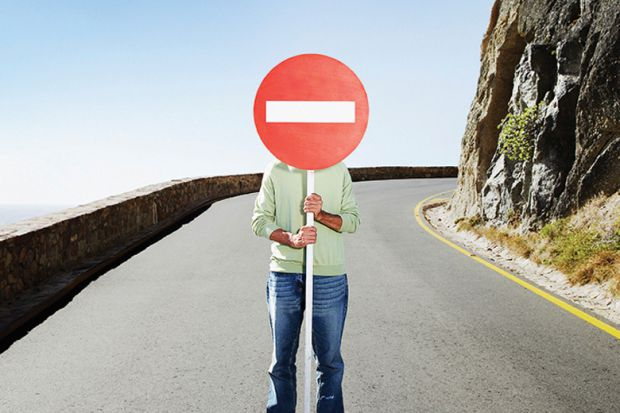No_entry: (252, 54, 369, 172)
